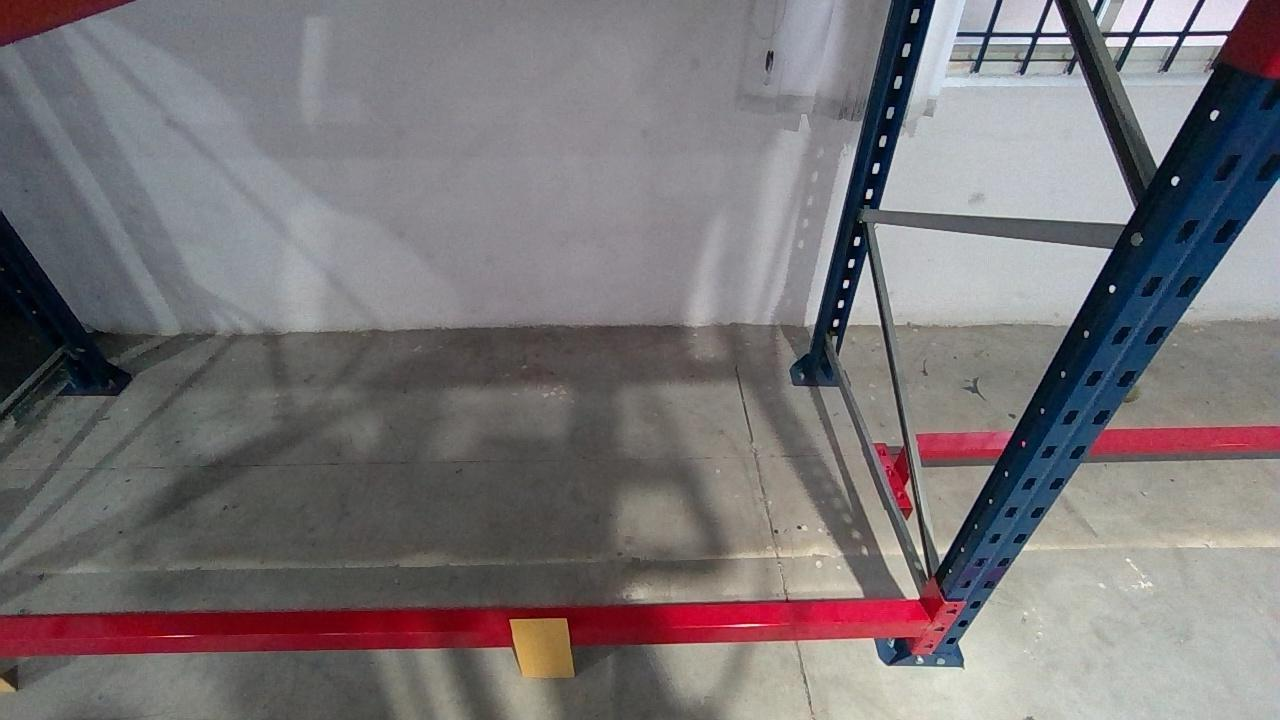h_rack: (0, 618, 928, 658)
orange_strip: (508, 618, 575, 677)
